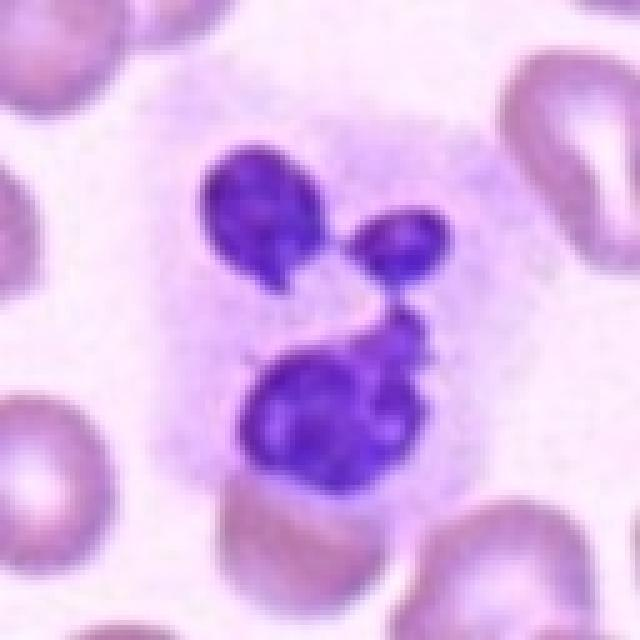neutro: (85, 140, 530, 502)
